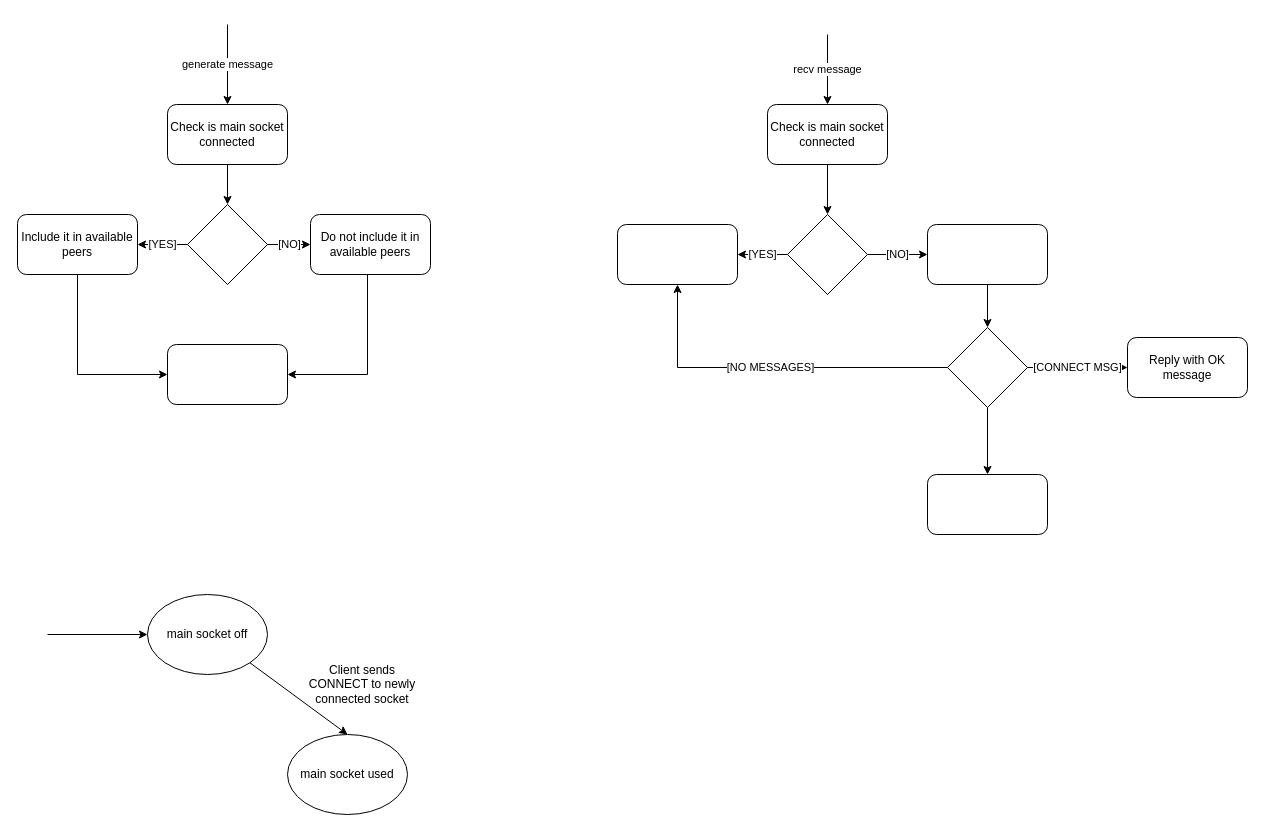
Image size: 1265x832. Some labels were removed from this diagram. The centre of each missing label's shape, as x and y in pixels:
Poll main socket: point (987, 254)
Proceed with generating message: point (227, 374)
Proceed with receiving messages: point (677, 254)
Reply with REFUSED message: point (987, 504)
